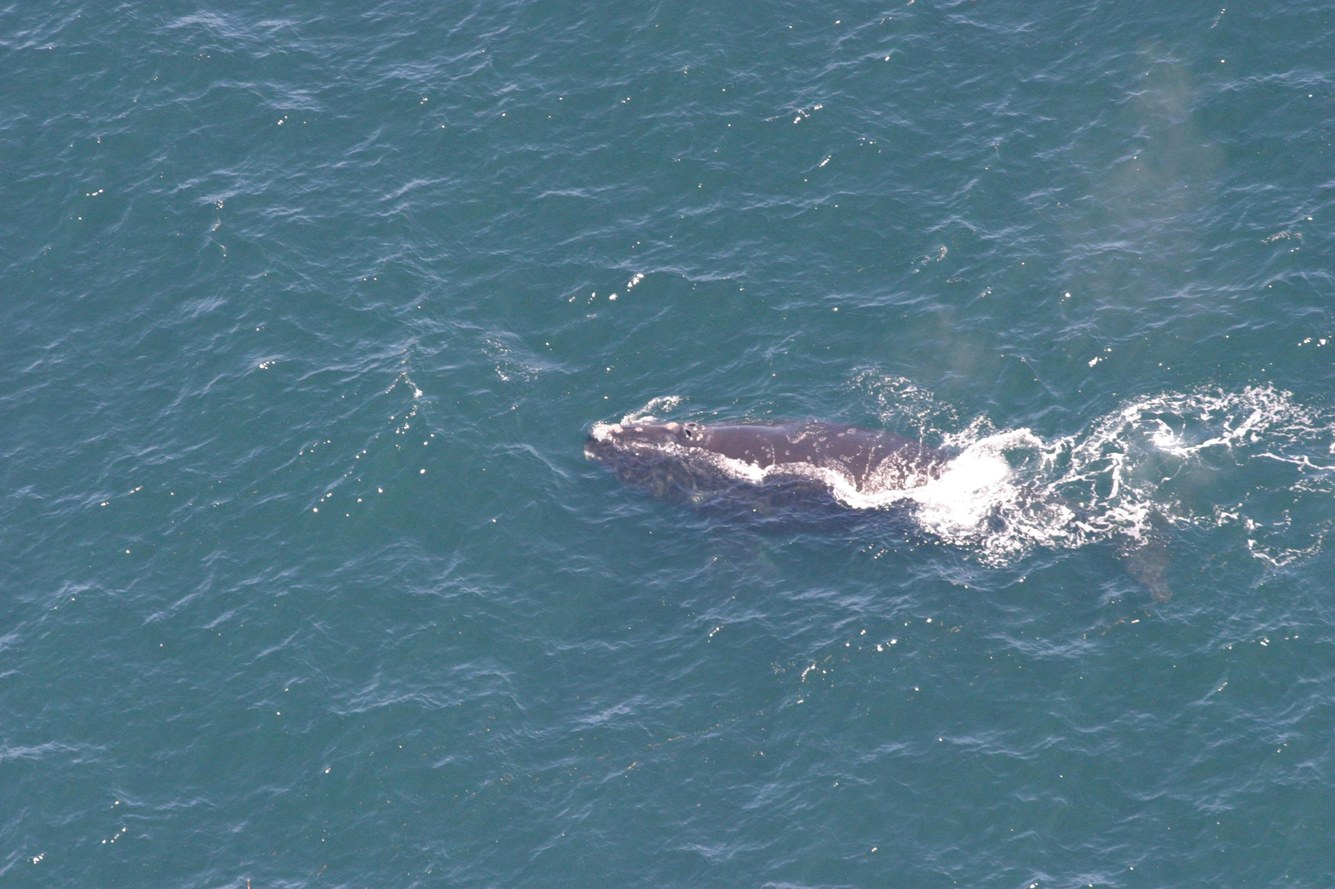whale: (573, 401, 1201, 610)
